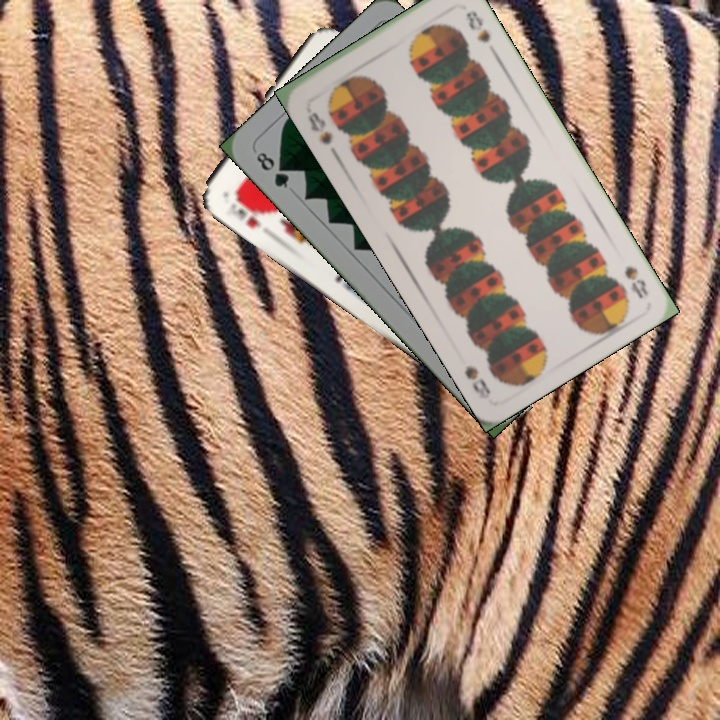G8: (252, 147, 292, 192)
HK: (222, 189, 267, 231)
S8: (303, 107, 335, 147), (620, 262, 651, 302)
